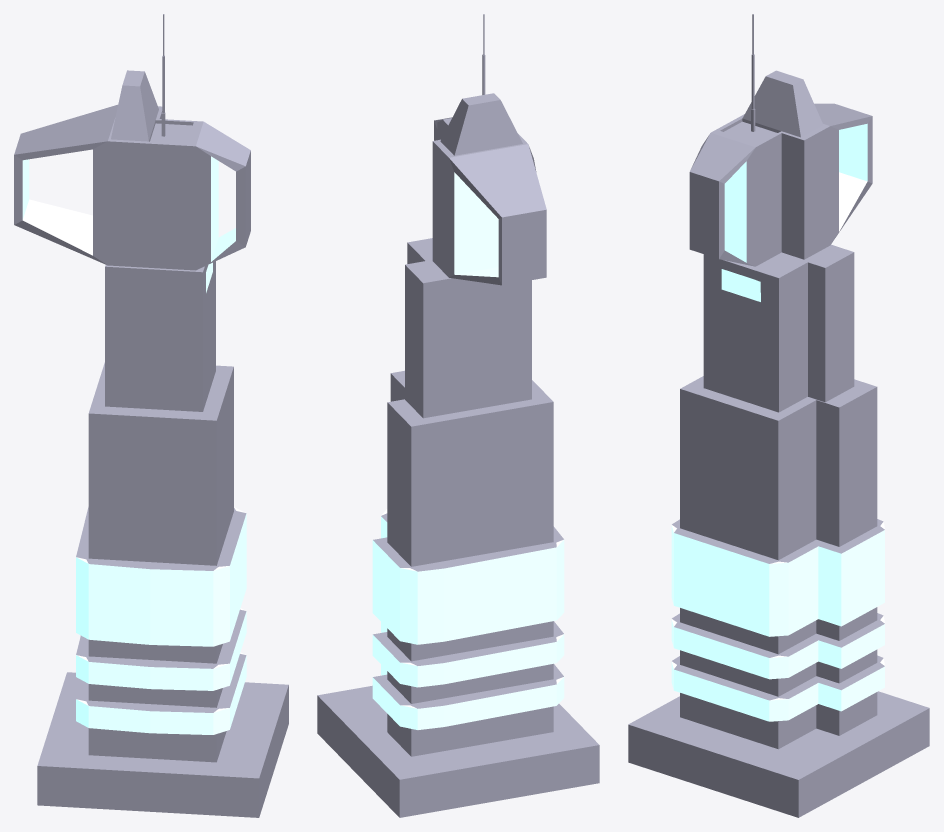
File: budova1.fbx
3 renders of one model, left to right at view 1: azimuth 30°, elevation 25°; view 2: azimuth 150°, elevation 25°; view 3: azimuth 270°, elevation 25°, orthographic. The views are drawn at different scales.
Visible parts, largest first — view 1: Cube.001; view 2: Cube.001; view 3: Cube.001.
Boxes of the visible parts, x1,y1,x2,y2 form: Cube.001: [14, 14, 288, 817]; Cube.001: [317, 14, 599, 817]; Cube.001: [628, 14, 929, 817].
Size of the model in its own units: 237 by 636 by 237.
